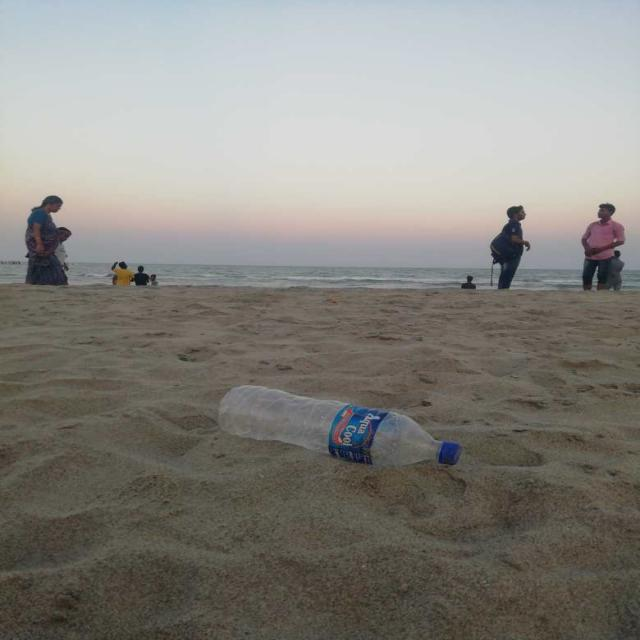plastic: (217, 386, 459, 468)
